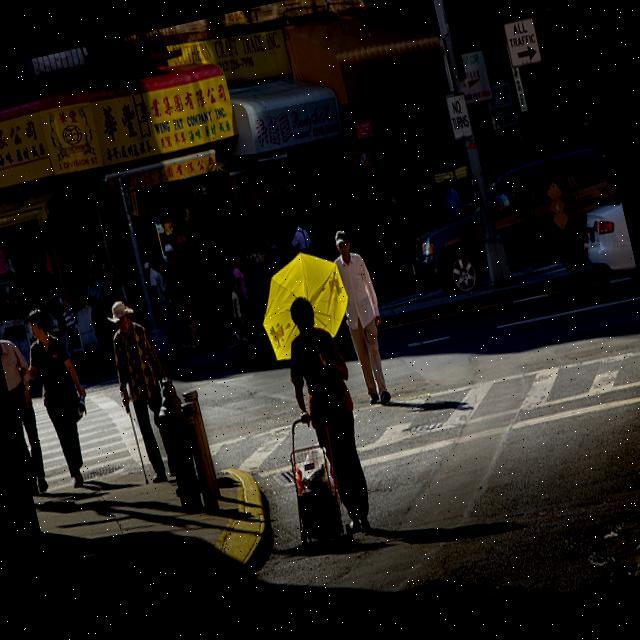fire_hydrant: (148, 373, 206, 518)
